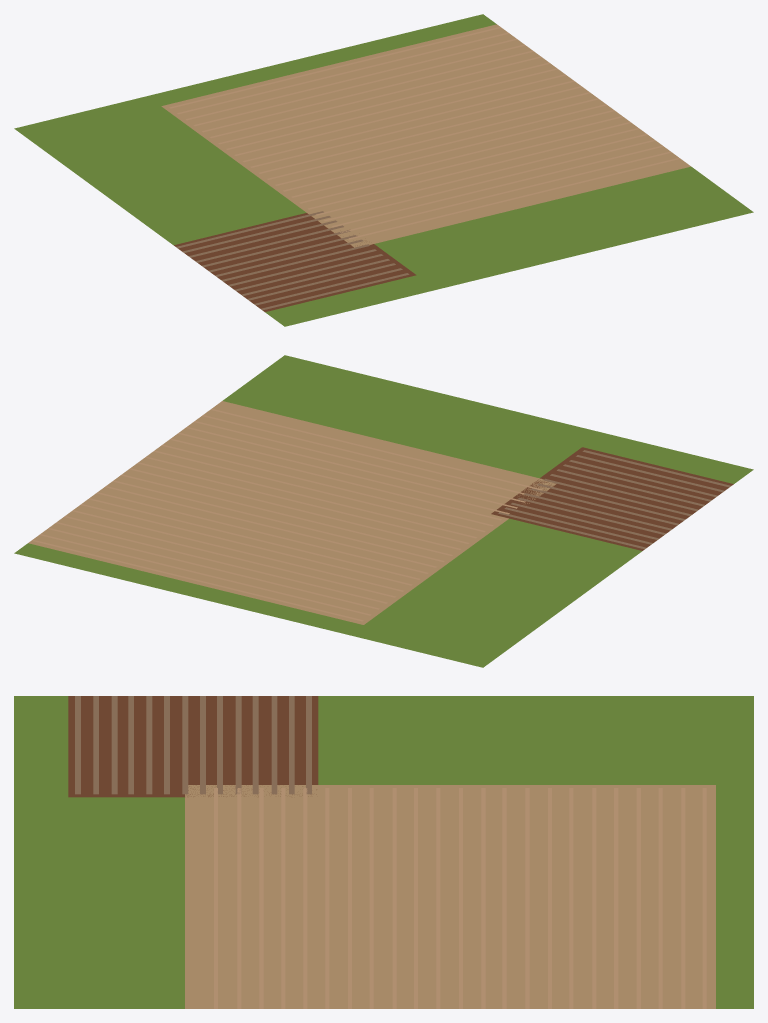
Rendered from crossing-9-7.glb.
3 renders of one model, top to bottom at view 1: azimuth 30°, elevation 25°; view 2: azimuth 150°, elevation 25°; view 3: azimuth 270°, elevation 25°, orthographic. The views are drawn at different scales.
Parts seen in each view (by area): view 1: crossing-9-7; view 2: crossing-9-7; view 3: crossing-9-7.
Part boxes in pixels (x1,y1,x2,y2): crossing-9-7: (14, 14, 753, 326); crossing-9-7: (14, 355, 753, 667); crossing-9-7: (14, 696, 753, 1008).
Bounding box in the file's own units: 100 × 0.0064 × 100.
